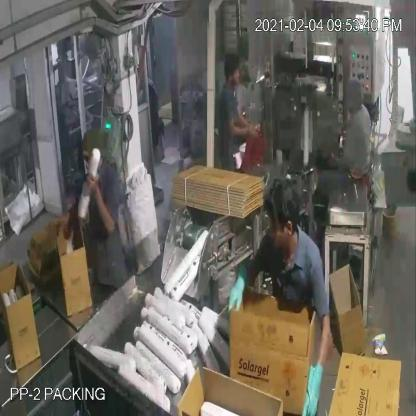glove: (222, 251, 257, 317), (296, 351, 326, 416)
no_glove: (86, 172, 119, 247), (224, 115, 260, 140)
